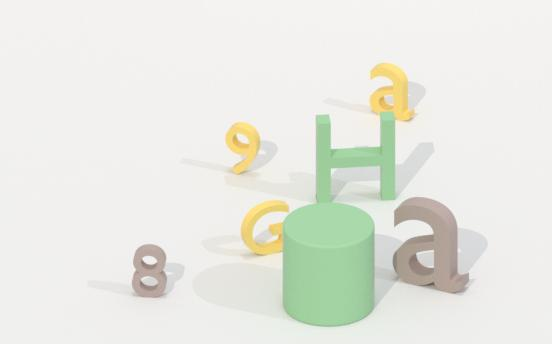8: (131, 243, 170, 300)
9: (224, 119, 262, 177)
G-hoa: (240, 198, 293, 259)
H-hoa: (314, 110, 396, 208)
a: (393, 194, 472, 295), (370, 62, 415, 124)
tru: (281, 201, 378, 330)
